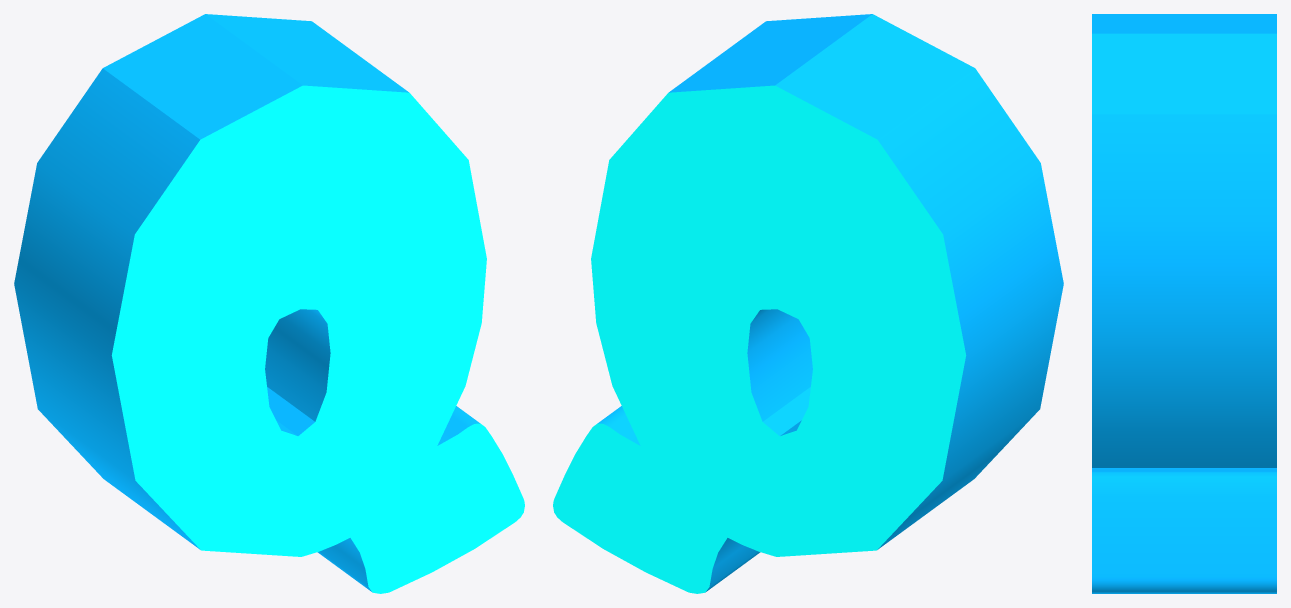
The picture shows the model from 3 angles, left to right: view 1: azimuth 30°, elevation 25°; view 2: azimuth 150°, elevation 25°; view 3: azimuth 270°, elevation 25°; orthographic projection. The views are drawn at different scales.
Parts seen in each view (by area): view 1: q; view 2: q; view 3: q.
Boxes of the visible parts, box(x1,y1,x2,y2) form: q: box(14, 14, 524, 593); q: box(553, 14, 1063, 593); q: box(1092, 14, 1276, 593).
Size of what is drawn, in the model's own units: 0.4395 by 0.537 by 0.18.
